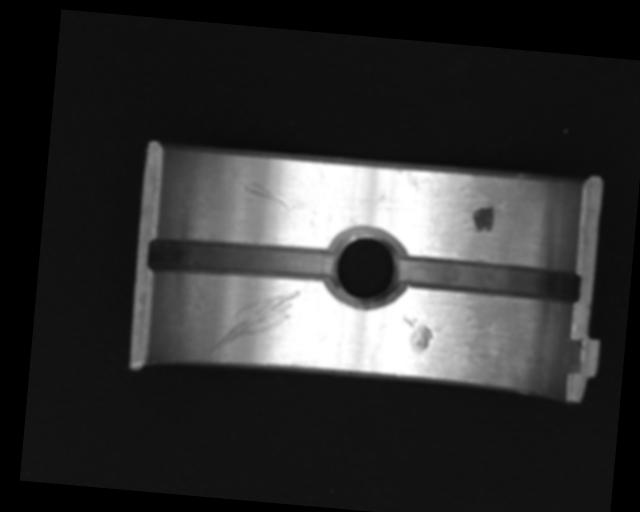blot: (471, 203, 495, 233)
bruise: (400, 315, 434, 352)
gap: (144, 232, 336, 288), (396, 254, 580, 302)
hole: (324, 225, 411, 313)
nick: (208, 282, 301, 362), (243, 179, 303, 214)
